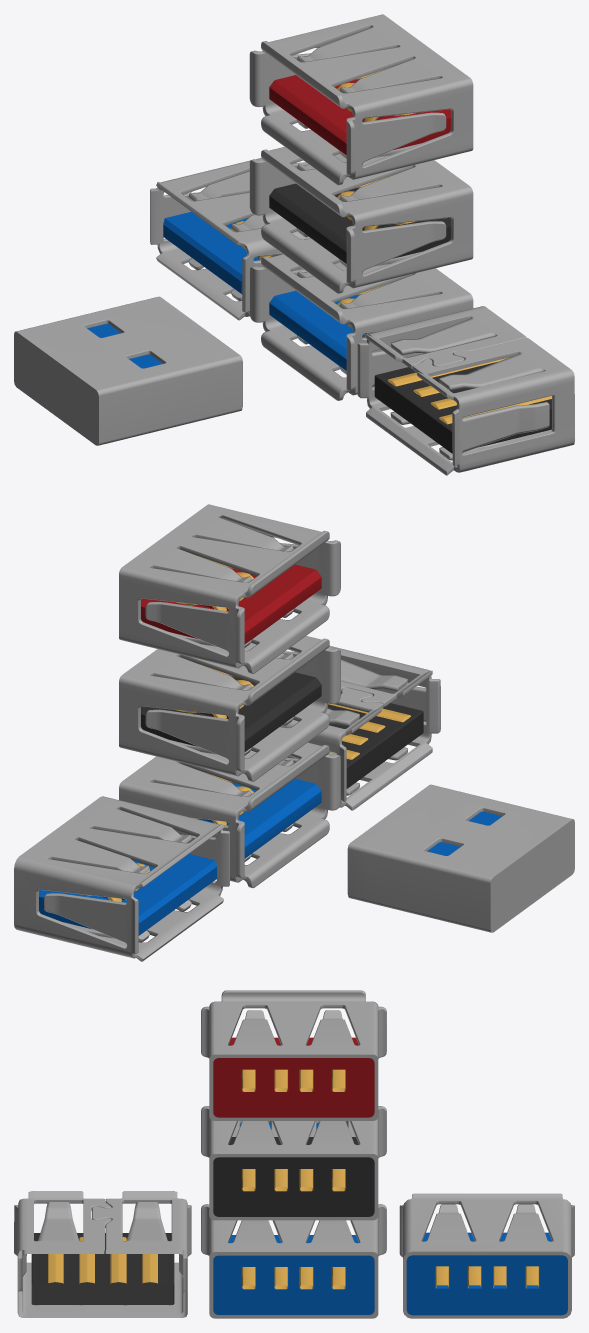
The model's file is usb_ports_and_stick.glb.
3 views of the same model, one above another, from view 1: azimuth 30°, elevation 25°; view 2: azimuth 150°, elevation 25°; view 3: azimuth 270°, elevation 25° (orthographic). The views are drawn at different scales.
Parts seen in each view (by area): view 1: USB Port 1 3.2, USB Port Old, USB Stick, USB Port 1 2.0, USB Port 1 3.0, USB Port 2; view 2: USB Port 1 3.2, USB Port 2, USB Stick, USB Port 1 2.0, USB Port 1 3.0, USB Port Old; view 3: USB Port 1 3.2, USB Port 2, USB Port Old, USB Port 1 2.0, USB Port 1 3.0.
Boxes of the visible parts, left/top/right/bottom form: USB Port 1 3.2: left=249, top=14, right=473, bottom=185; USB Port Old: left=357, top=306, right=574, bottom=475; USB Stick: left=14, top=296, right=242, bottom=445; USB Port 1 2.0: left=249, top=147, right=473, bottom=293; USB Port 1 3.0: left=249, top=254, right=473, bottom=400; USB Port 2: left=150, top=158, right=310, bottom=320; USB Port 1 3.2: left=119, top=504, right=340, bottom=673; USB Port 2: left=14, top=796, right=229, bottom=961; USB Stick: left=347, top=784, right=574, bottom=932; USB Port 1 2.0: left=119, top=636, right=340, bottom=781; USB Port 1 3.0: left=119, top=742, right=340, bottom=888; USB Port Old: left=280, top=646, right=440, bottom=810; USB Port 1 3.2: left=201, top=990, right=386, bottom=1120; USB Port 2: left=399, top=1193, right=574, bottom=1318; USB Port Old: left=14, top=1191, right=191, bottom=1317; USB Port 1 2.0: left=201, top=1106, right=386, bottom=1220; USB Port 1 3.0: left=201, top=1204, right=386, bottom=1318.
Bounding box in the file's own units: 0.0303 × 0.0238 × 0.0434.
